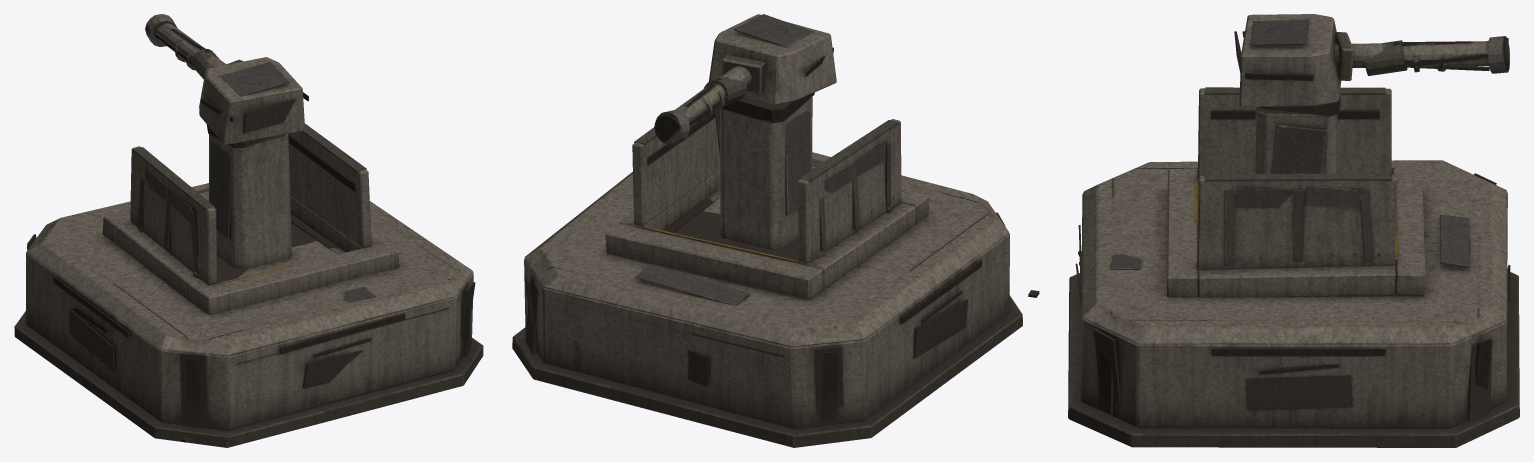
File: ord_radiance_wreck.fbx
3 renders of one model, left to right at view 1: azimuth 30°, elevation 25°; view 2: azimuth 150°, elevation 25°; view 3: azimuth 270°, elevation 25°, orthographic. The views are drawn at different scales.
Visible parts, largest first — view 1: base_bar, turret_bar, shell_bar, shellL_bar, shellR_bar, barrel_bar; view 2: base_bar, turret_bar, shell_bar, shellL_bar, shellR_bar, barrel_bar; view 3: base_bar, shellR_bar, turret_bar, shell_bar, shellL_bar, barrel_bar.
Boxes of the visible parts, x1=… form: base_bar: x1=14, y1=183, x2=483, y2=447; turret_bar: x1=199, y1=57, x2=308, y2=269; shell_bar: x1=102, y1=191, x2=399, y2=315; shellL_bar: x1=130, y1=146, x2=216, y2=284; shellR_bar: x1=288, y1=123, x2=371, y2=247; barrel_bar: x1=145, y1=14, x2=225, y2=79; base_bar: x1=512, y1=152, x2=1039, y2=447; turret_bar: x1=708, y1=14, x2=836, y2=249; shell_bar: x1=605, y1=166, x2=929, y2=299; shellL_bar: x1=797, y1=119, x2=901, y2=263; shellR_bar: x1=632, y1=113, x2=719, y2=226; barrel_bar: x1=654, y1=66, x2=751, y2=144; base_bar: x1=1068, y1=160, x2=1519, y2=447; shellR_bar: x1=1196, y1=173, x2=1397, y2=269; turret_bar: x1=1234, y1=14, x2=1353, y2=173; shell_bar: x1=1167, y1=167, x2=1425, y2=297; shellL_bar: x1=1198, y1=87, x2=1391, y2=179; barrel_bar: x1=1334, y1=36, x2=1509, y2=75.
Size of the model in its own units: 1479 by 1377 by 1485.
Materials: 2 (2 with a texture image).
